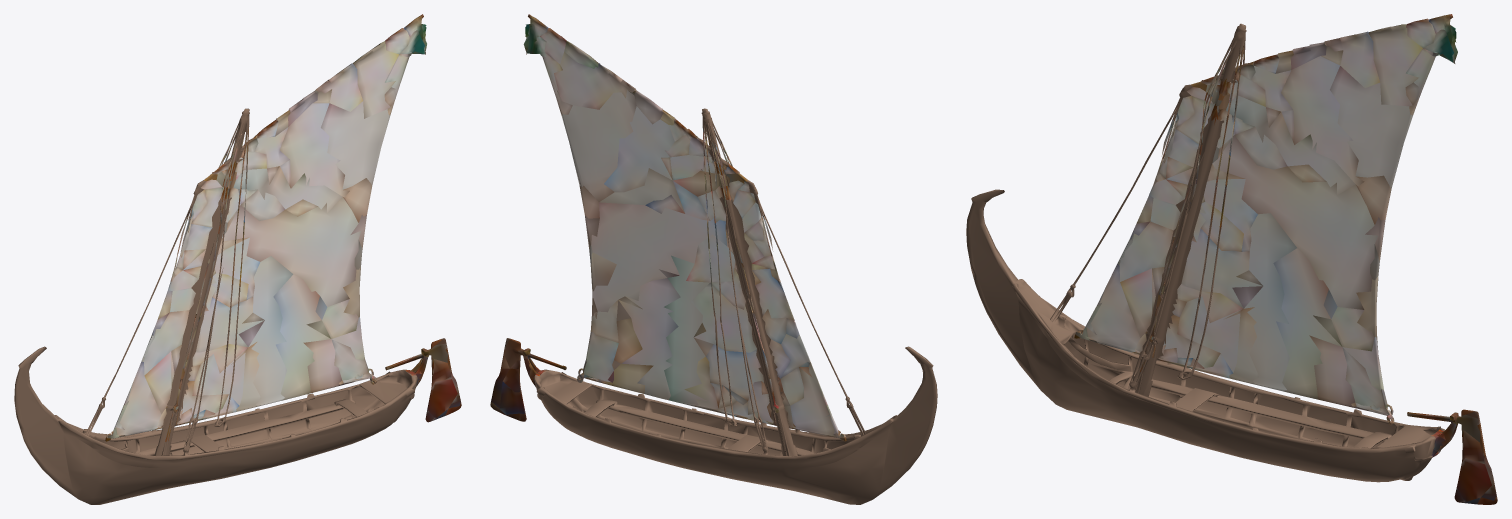
Rendered from moliceiro.glb.
3 renders of one model, left to right at view 1: azimuth 30°, elevation 25°; view 2: azimuth 150°, elevation 25°; view 3: azimuth 330°, elevation 25°, orthographic. The views are drawn at different scales.
Visible parts, largest first — view 1: Vela, lite_static, Leme; view 2: Vela, lite_static, Leme; view 3: Vela, lite_static, Leme.
Boxes of the visible parts, x1,y1,x2,y2 form: Vela: [105, 14, 426, 441]; lite_static: [14, 108, 417, 504]; Leme: [385, 338, 461, 422]; Vela: [523, 14, 846, 441]; lite_static: [534, 108, 937, 504]; Leme: [490, 338, 566, 421]; Vela: [1074, 14, 1457, 425]; lite_static: [966, 23, 1445, 482]; Leme: [1407, 409, 1497, 504].
Bounding box in the file's own units: 17.32 × 15.26 × 2.5.
Materials: 2 (1 with a texture image).
